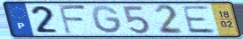2: (153, 4, 185, 36), (31, 5, 63, 34)
5: (121, 4, 152, 35)
E: (180, 5, 218, 35)
F: (57, 3, 89, 35)
G: (90, 4, 124, 35)
